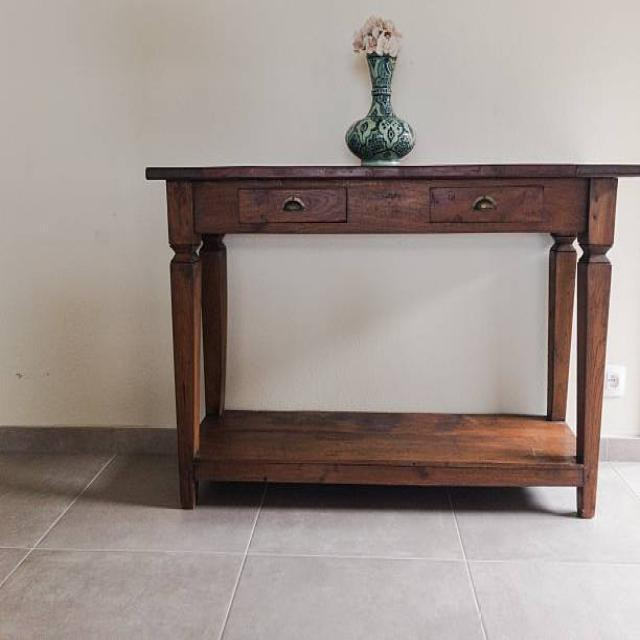table: (144, 162, 639, 518)
